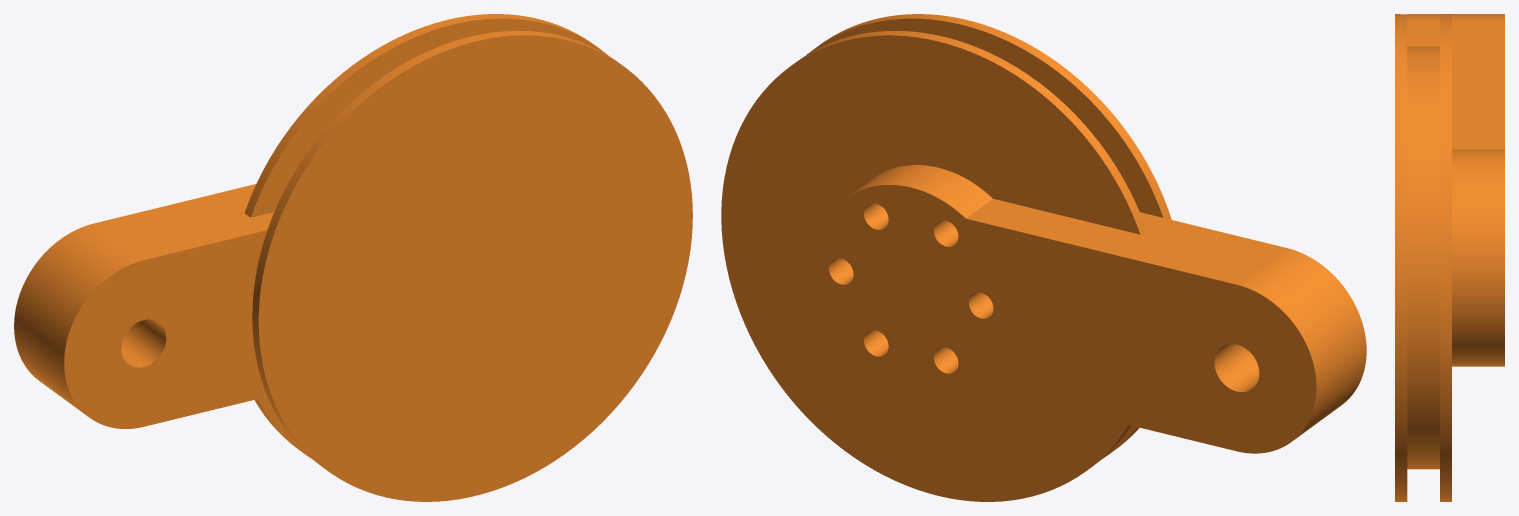
The model's file is crank.glb.
3 renders of one model, left to right at view 1: azimuth 30°, elevation 25°; view 2: azimuth 150°, elevation 25°; view 3: azimuth 270°, elevation 25°, orthographic. The views are drawn at different scales.
Parts seen in each view (by area): view 1: crank (printed); view 2: crank (printed); view 3: crank (printed).
Boxes of the visible parts, x1,y1,x2,y2 form: crank (printed): [14, 14, 692, 501]; crank (printed): [721, 14, 1366, 501]; crank (printed): [1395, 14, 1504, 501].
Size of the model in its own units: 0.086 by 0.06 by 0.0135.
